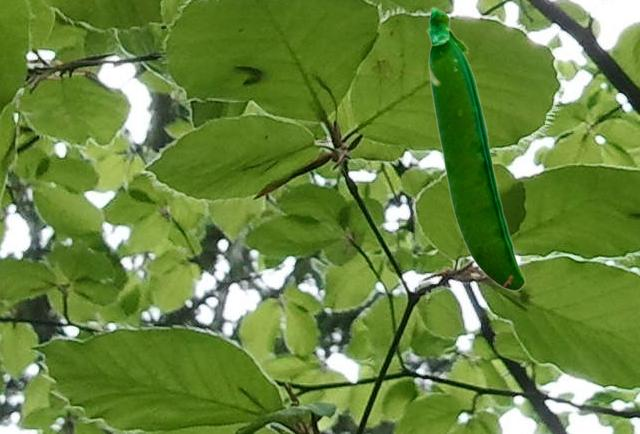pea: (426, 6, 524, 290)
